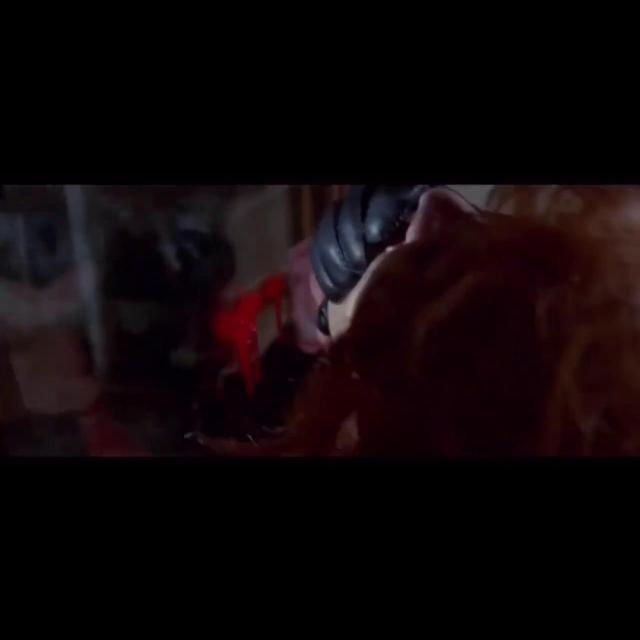blood: (216, 273, 285, 396)
